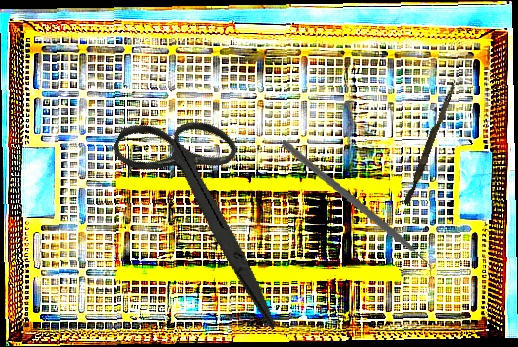Chopper: (266, 140, 447, 283)
Iris Scissors: (71, 87, 344, 332)
Pusher: (403, 77, 458, 206)
